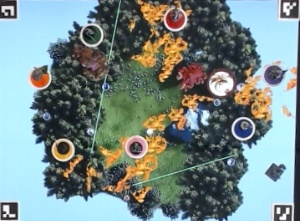blue: (231, 112, 255, 142)
green: (78, 21, 106, 47)
orange: (26, 64, 54, 88)
pink: (124, 133, 150, 158)
red: (162, 5, 189, 31)
violet: (263, 62, 287, 87)
yellow: (51, 136, 77, 161)
